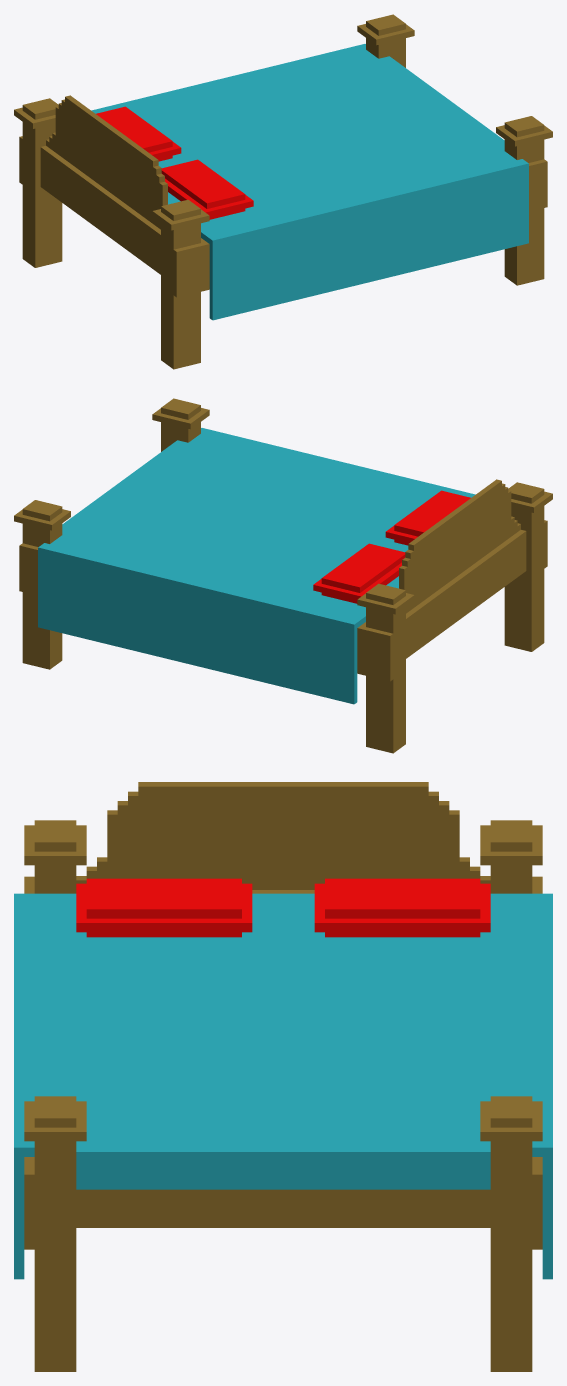
Rendered from Bed.obj.
The picture shows the model from 3 angles, top to bottom: view 1: azimuth 30°, elevation 25°; view 2: azimuth 150°, elevation 25°; view 3: azimuth 270°, elevation 25°; orthographic projection. The views are drawn at different scales.
Bounding box in the file's own units: 70 × 32 × 52.
1 material, 1 textured.
